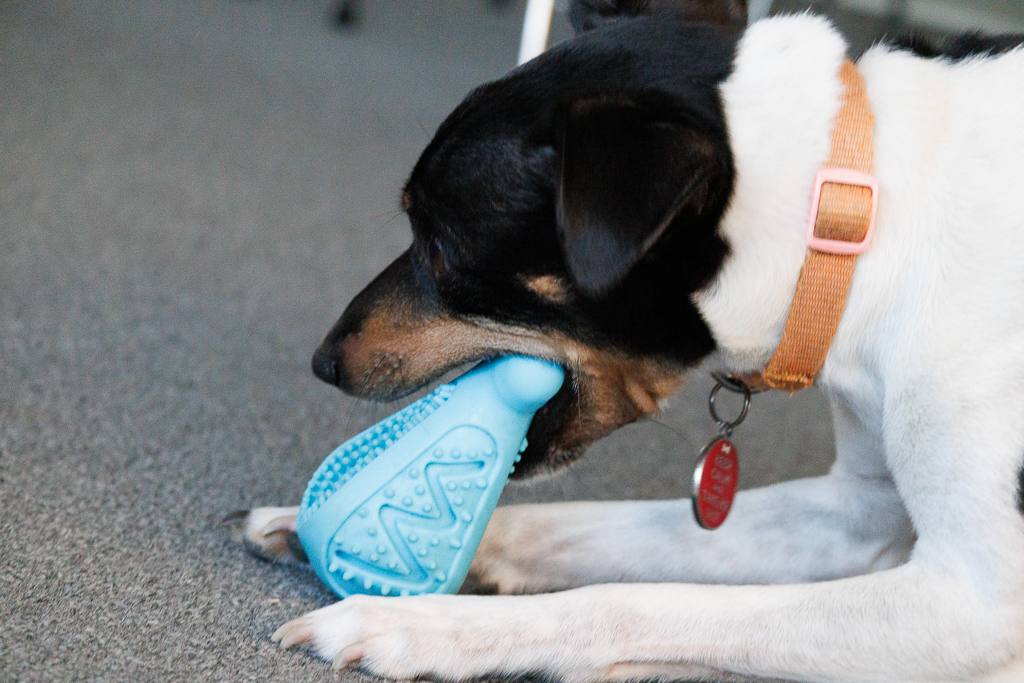Dog: (207, 0, 1024, 683)
